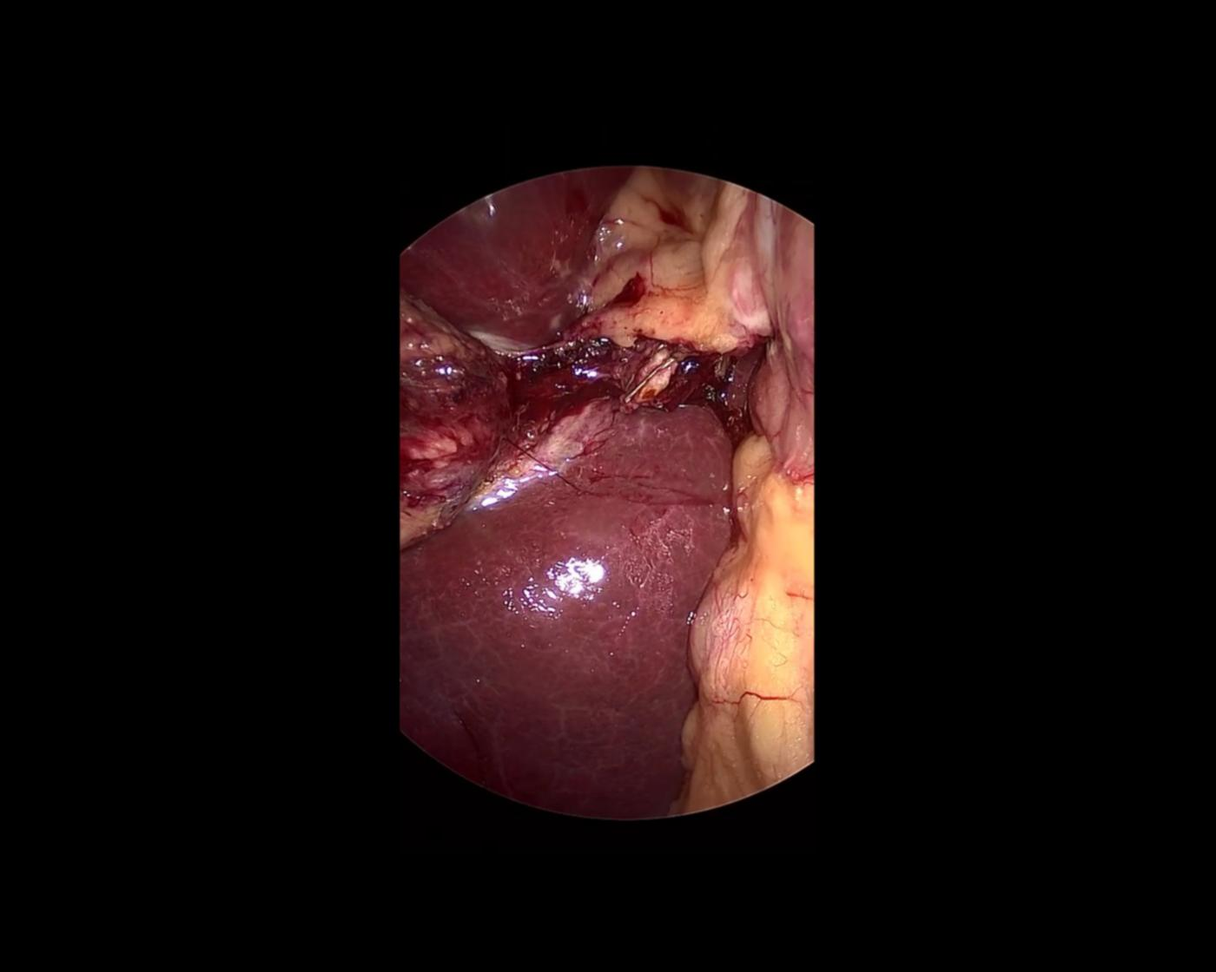Gallbladder: (402, 286, 506, 540)
Liver: (359, 354, 755, 833), (389, 115, 691, 388)
